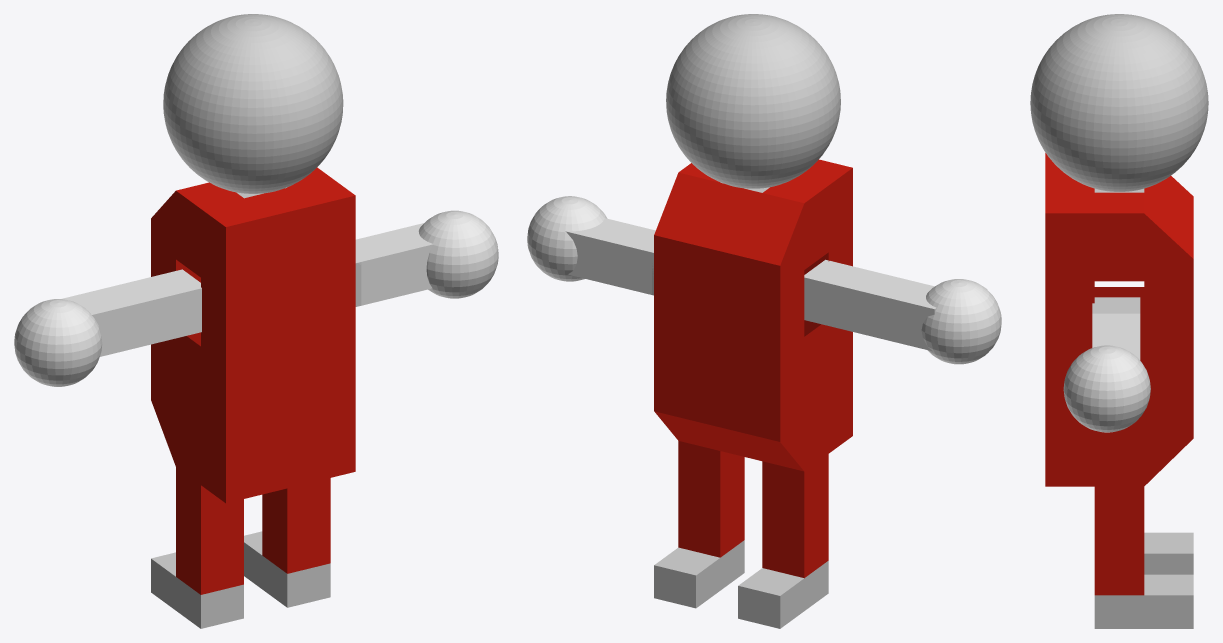
File: dummy.fbx
The picture shows the model from 3 angles, left to right: view 1: azimuth 30°, elevation 25°; view 2: azimuth 150°, elevation 25°; view 3: azimuth 270°, elevation 25°; orthographic projection. The views are drawn at different scales.
Parts seen in each view (by area): view 1: Cube, Cube.005, Cube.006, Sphere, Sphere.001, Cube.002, Cube.003, Cube.001; view 2: Cube, Cube.005, Cube.006, Cube.002, Sphere, Cube.003, Sphere.001, Cube.001; view 3: Cube, Cube.005, Cube.006, Sphere.001, Cube.003, Cube.004.
Part boxes in pixels (<box>): Cube: <box>151,167,355,594</box>; Cube.005: <box>163,14,343,198</box>; Cube.006: <box>151,531,330,628</box>; Sphere: <box>14,299,102,386</box>; Sphere.001: <box>418,210,498,298</box>; Cube.002: <box>62,277,172,356</box>; Cube.003: <box>355,223,433,305</box>; Cube.001: <box>149,269,201,340</box>; Cube: <box>654,159,852,578</box>; Cube.005: <box>666,14,840,192</box>; Cube.006: <box>654,540,828,628</box>; Cube.002: <box>841,268,936,351</box>; Sphere: <box>921,279,1001,364</box>; Cube.003: <box>565,218,655,294</box>; Sphere.001: <box>527,196,607,281</box>; Cube.001: <box>804,259,865,329</box>; Cube: <box>1045,153,1193,595</box>; Cube.005: <box>1030,14,1208,192</box>; Cube.006: <box>1094,532,1193,628</box>; Sphere.001: <box>1063,345,1150,432</box>; Cube.003: <box>1092,313,1140,360</box>; Cube.004: <box>1092,297,1140,313</box>.
Bounding box in the file's own units: 732 × 856 × 240.
